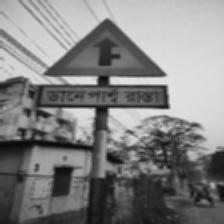Side-road-right: (40, 18, 171, 111)
